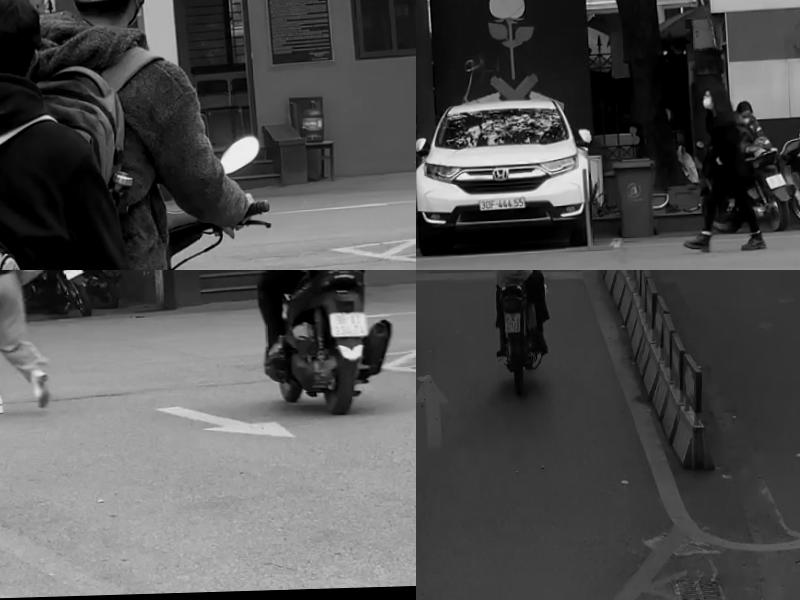license_plate: (327, 312, 367, 343), (764, 174, 784, 193), (502, 315, 518, 335), (61, 270, 83, 281)
motorcyclist: (0, 0, 274, 270), (240, 270, 394, 420), (479, 270, 553, 399)
